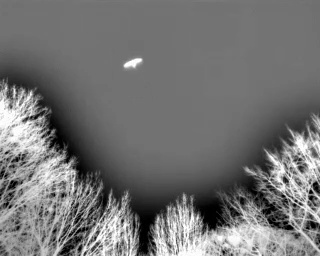BIRD: (120, 53, 145, 74)
